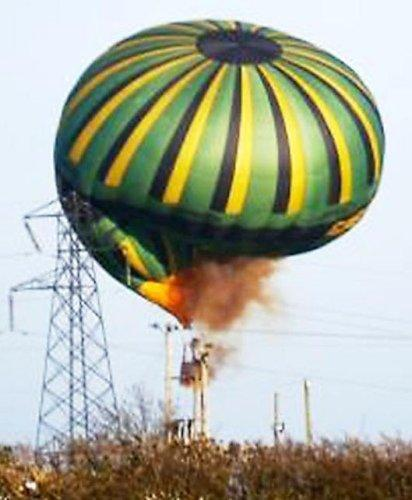smoke: (171, 259, 288, 336)
